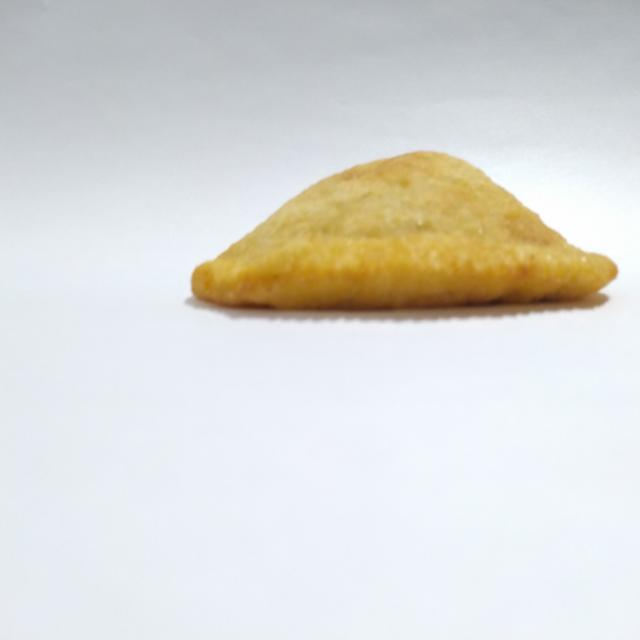Food: (184, 138, 622, 330)
